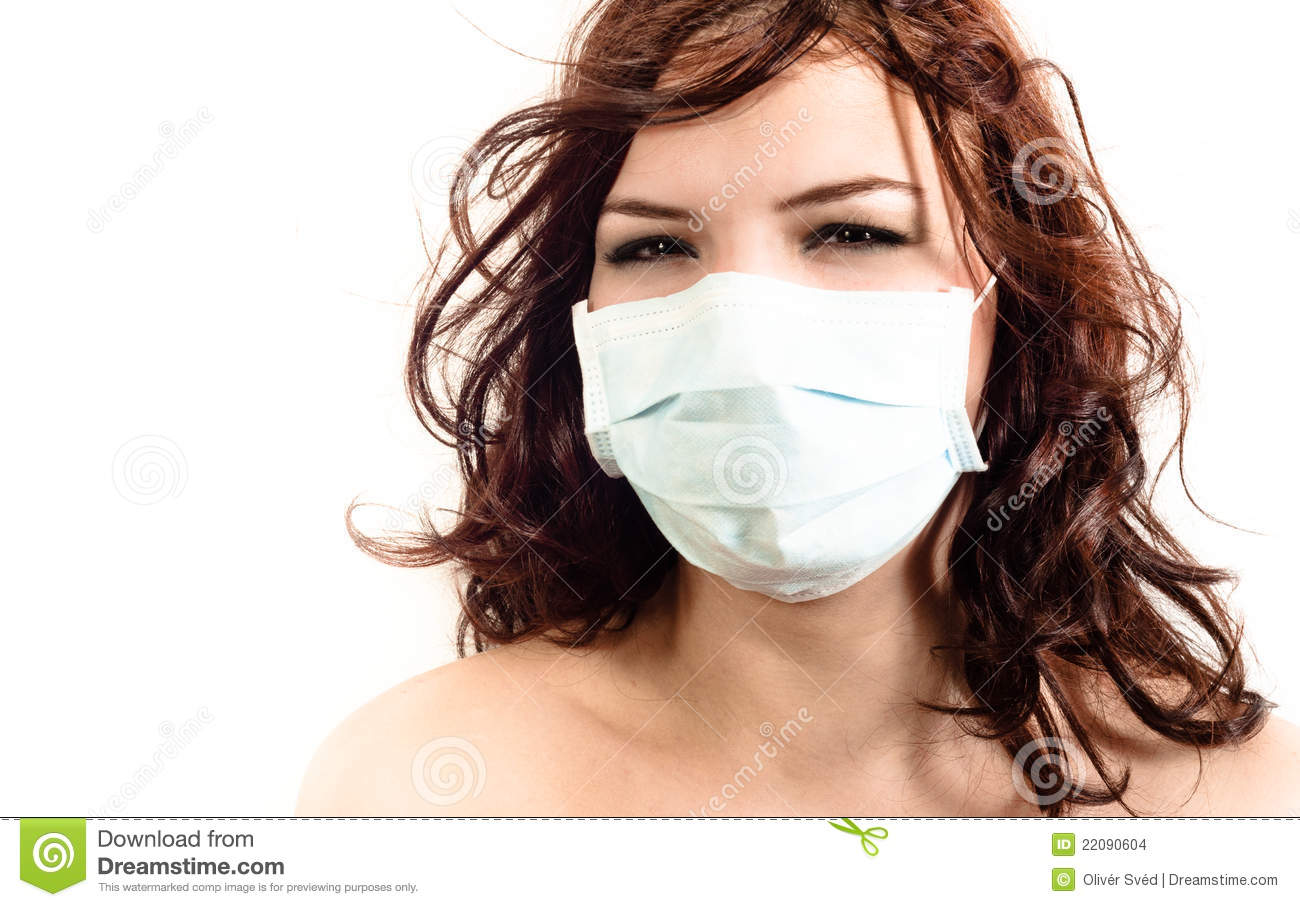mask: (574, 274, 981, 609)
